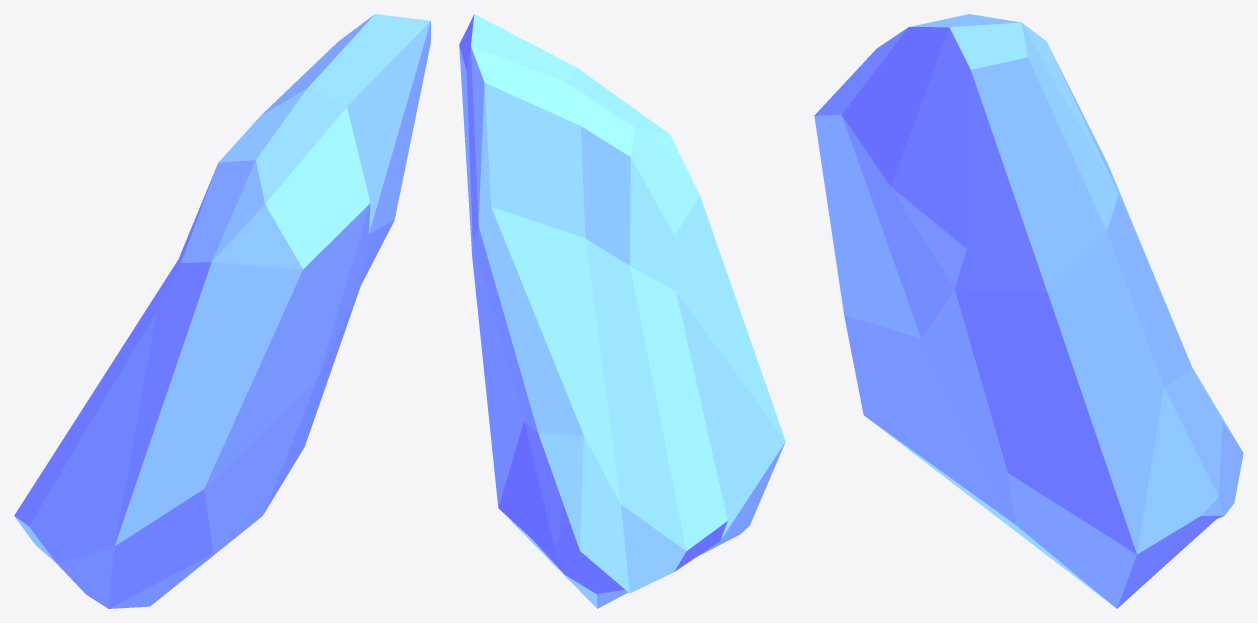
Rendered from ROCHEAIGUE1.fbx.
The picture shows the model from 3 angles, left to right: view 1: azimuth 30°, elevation 25°; view 2: azimuth 150°, elevation 25°; view 3: azimuth 270°, elevation 25°; orthographic projection. The views are drawn at different scales.
Parts seen in each view (by area): view 1: RochéAigue.1; view 2: RochéAigue.1; view 3: RochéAigue.1.
Part boxes in pixels (box(x1,y1,x2,y2)): RochéAigue.1: box(14, 14, 430, 608); RochéAigue.1: box(459, 14, 785, 608); RochéAigue.1: box(814, 14, 1243, 608).
Bounding box in the file's own units: 537 × 842 × 464.
